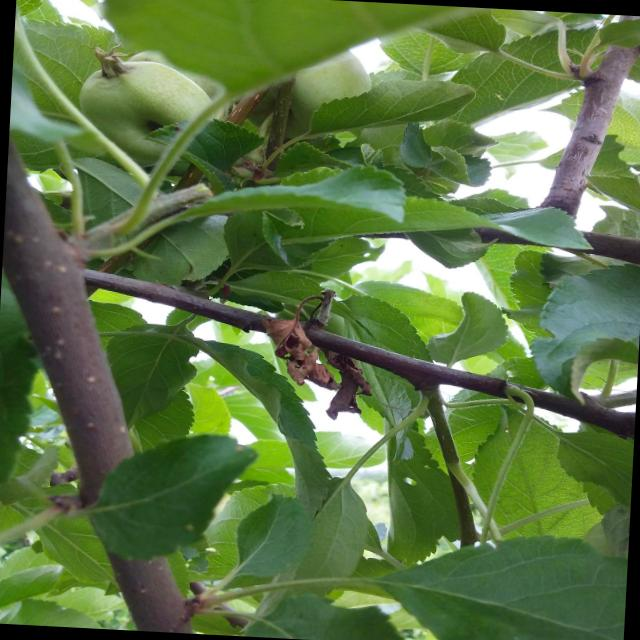-FireBlight-: (260, 316, 346, 391)
